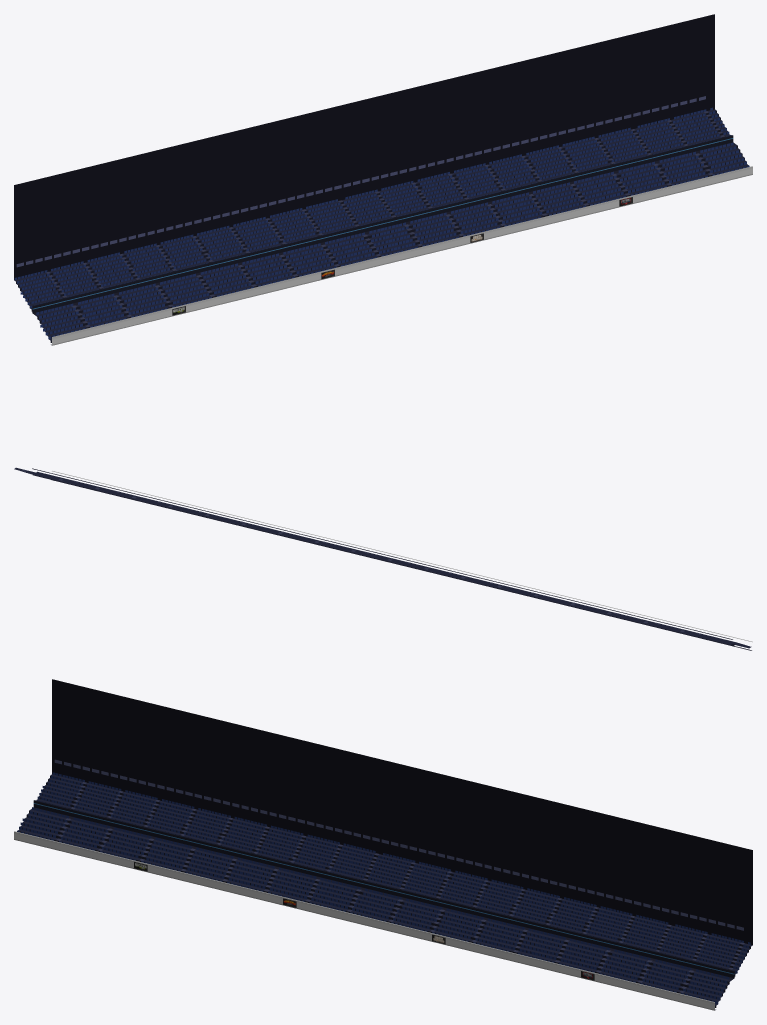
Rendered from arena.glb.
The picture shows the model from 3 angles, top to bottom: view 1: azimuth 30°, elevation 25°; view 2: azimuth 150°, elevation 25°; view 3: azimuth 330°, elevation 25°; orthographic projection.
Visible parts, largest first — view 1: backwall, stands, wall; view 2: stands, wall; view 3: backwall, stands, wall.
Boxes of the visible parts, bbox=[...] form: backwall: bbox=[14, 14, 714, 279]; stands: bbox=[14, 107, 749, 345]; wall: bbox=[52, 166, 752, 345]; stands: bbox=[14, 467, 751, 650]; wall: bbox=[52, 471, 752, 642]; backwall: bbox=[52, 679, 752, 944]; stands: bbox=[17, 772, 752, 1010]; wall: bbox=[14, 831, 714, 1010].
Size of the model in its own units: 5418 by 977 by 509.
Materials: 3 (2 with a texture image).
